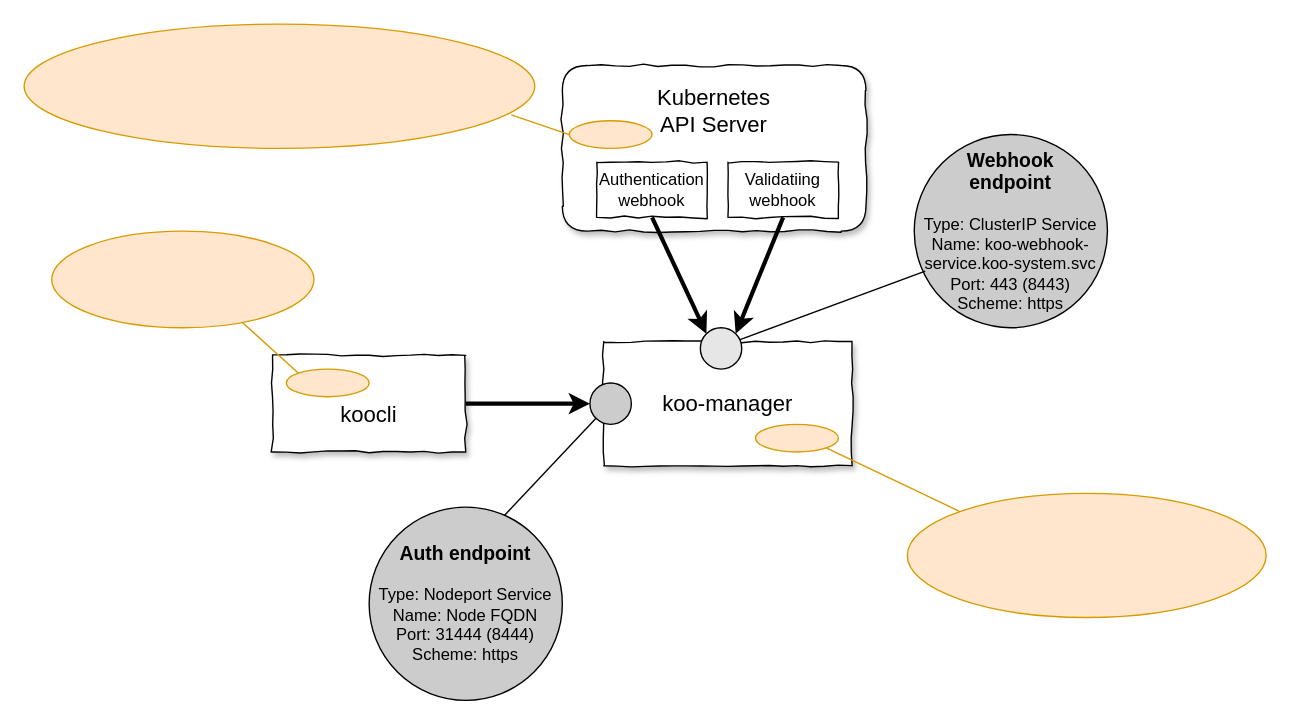
This 1290x725 diagram has some shape labels left out. Each missing label, with the centre of its shape:
"Configuration configMap koo-system:koomgr" goes at [1086,555].
"Configuration file /etc/kubernetes/manifests/kube-apiserver.yaml" goes at [279,85].
"Configuration file kubeconfig" goes at [182,279].
